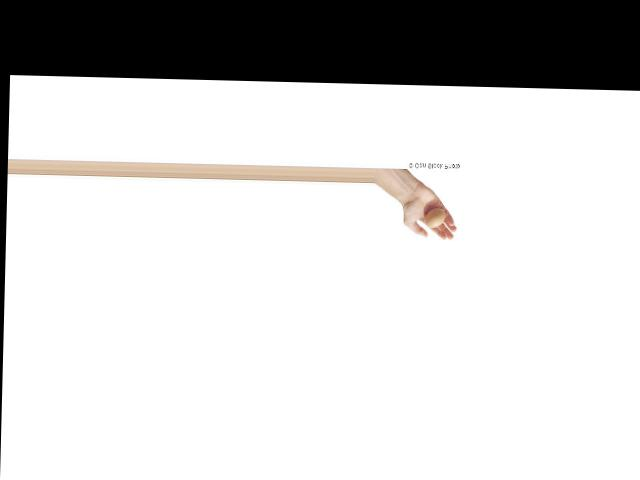egg: (426, 207, 446, 227)
